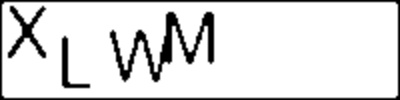L: (58, 31, 98, 90)
M: (162, 9, 218, 66)
W: (107, 27, 168, 84)
X: (5, 2, 53, 62)
